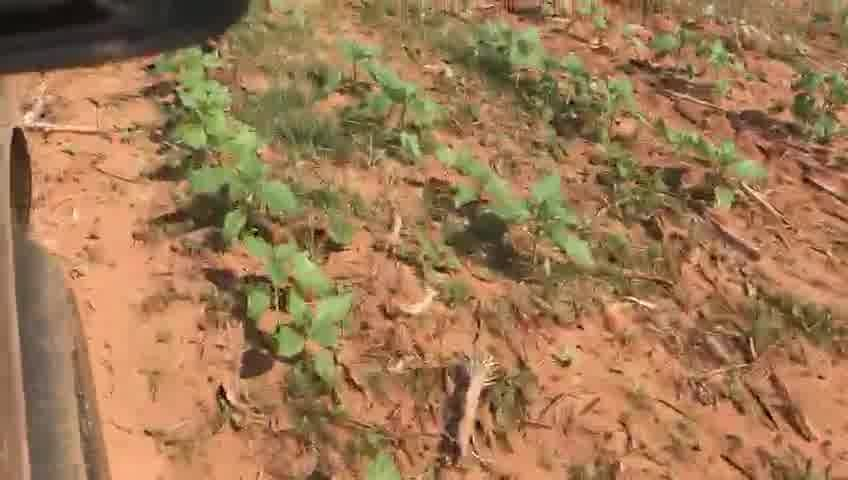sunflower: (481, 167, 599, 276), (183, 151, 300, 239), (245, 232, 333, 319), (354, 69, 442, 155), (271, 301, 362, 383), (691, 142, 766, 208), (430, 144, 502, 210), (165, 60, 237, 113), (174, 104, 240, 157), (654, 119, 702, 163)
